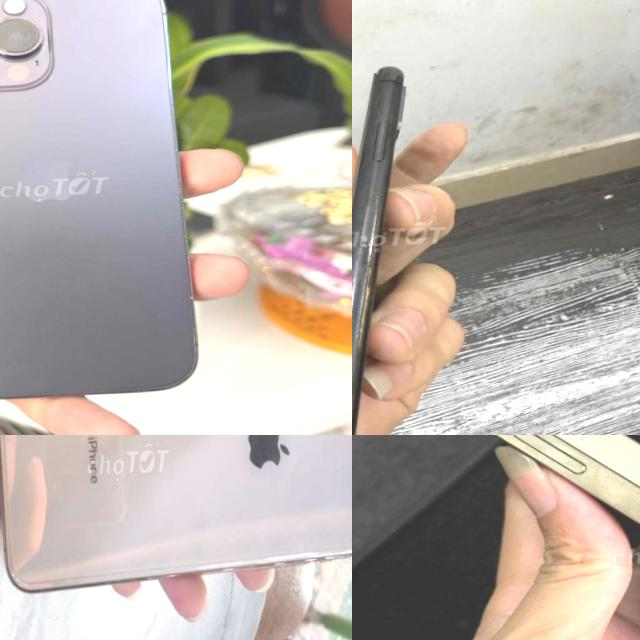gen_14: (0, 0, 209, 407), (352, 435, 640, 640)
gen_x_xs: (0, 435, 352, 589), (352, 66, 404, 435)
